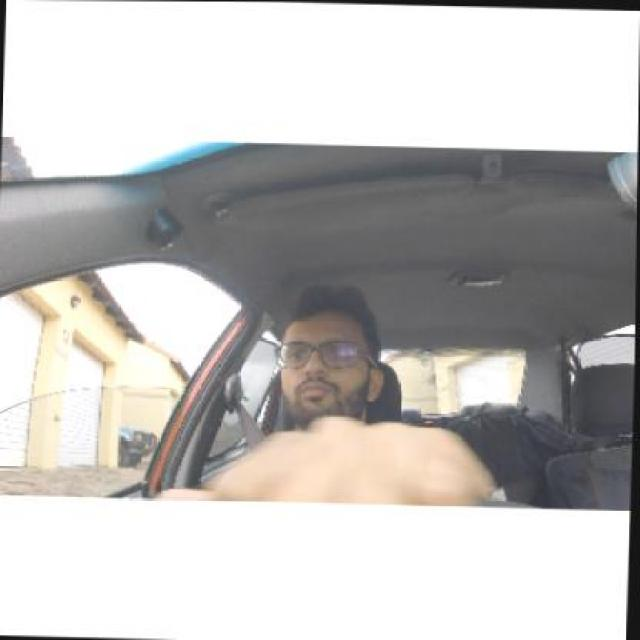person: (274, 286, 387, 414)
